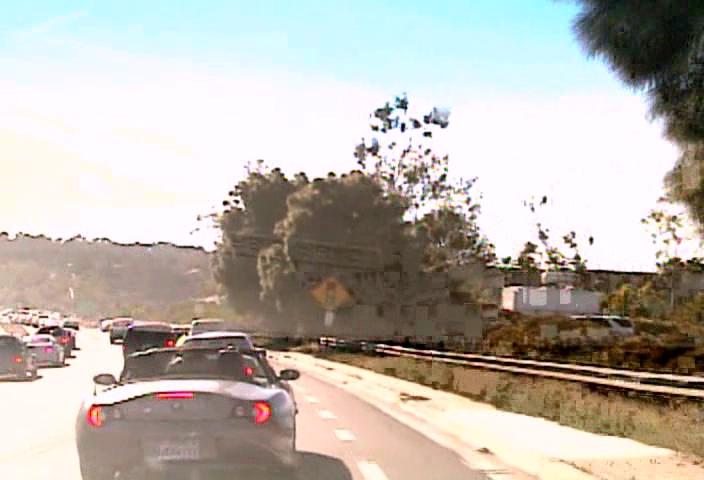signalAhead: (311, 274, 351, 313)
